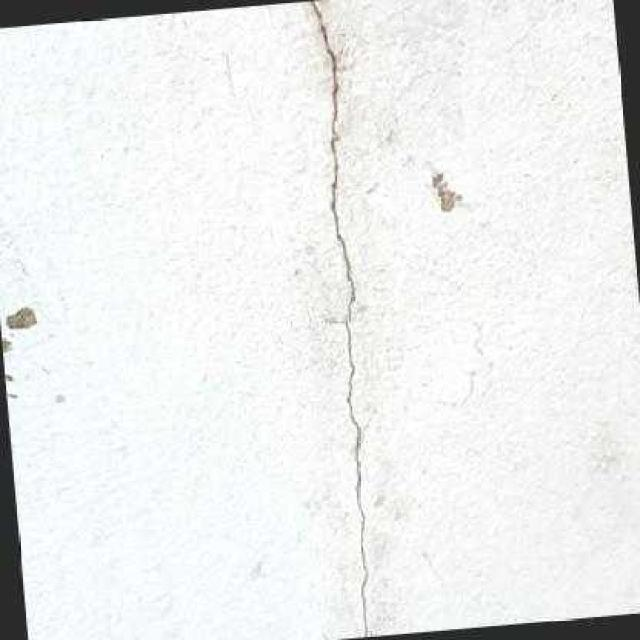D00: (306, 8, 373, 638)
